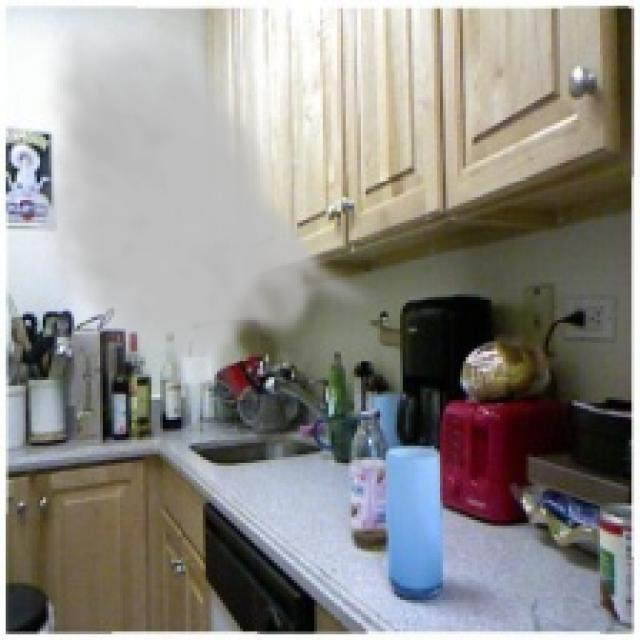smoke: (31, 8, 380, 383)
